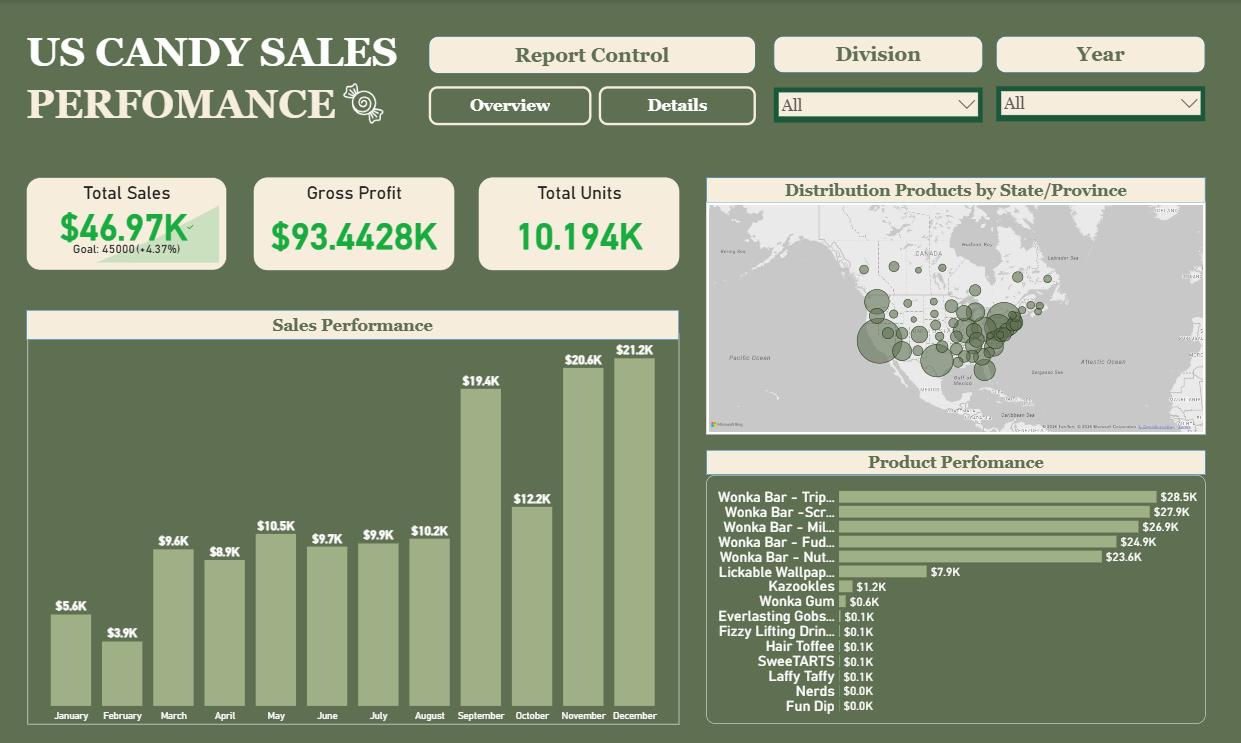

The page's visual inventory and layout, read from the dashboard file:
{"tool":"powerbi","page":{"name":"Overview","canvas":[2500,1500],"ordinal":0},"visuals":[{"type":"shape","box":[54,36,807,138],"z":0},{"type":"shape","box":[54,147,657,126],"z":1000},{"type":"shape","box":[861,72,657,75],"z":2000},{"type":"kpi","title":"Total Sales","fields":{"Indicator":["Sum(Candy_Sales.Sales)"],"Goal":["Candy_Sales.Target"],"TrendLine":["Candy_Sales.Order Date.Variation.Date Hierarchy.Year"]},"box":[53.3,356.7,403.3,186.7],"z":3000},{"type":"cardVisual","title":"Gross Profit","fields":{"Data":["Sum(Candy_Sales.Gross Profit)"]},"box":[510,356.7,403.3,186.7],"z":4000},{"type":"cardVisual","title":"Total Units","fields":{"Data":["CountNonNull(Candy_Sales.Units)"]},"box":[963.3,356.7,403.3,186.7],"z":5000},{"type":"shape","box":[1420,357.3,1003.6,50.9],"z":6000},{"type":"map","fields":{"Category":["Candy_Sales.State/Province"],"Size":["Sum(Candy_Sales.Sales)"]},"box":[1420,408,1004,466],"z":7000},{"type":"clusteredBarChart","fields":{"Category":["Candy_Sales.Product Name"],"Y":["Sum(Candy_Sales.Sales)"]},"box":[1420,954,1004,500],"z":8000},{"type":"shape","box":[1420,904,1004,50],"z":9000},{"type":"columnChart","fields":{"Category":["Candy_Sales.Order Date.Variation.Date Hierarchy.Month"],"Y":["Sum(Candy_Sales.Sales)"]},"box":[55.7,670,1310,785.7],"z":10000},{"type":"shape","box":[53.8,622.5,1312.5,60],"z":11000},{"type":"shape","box":[1556.7,73.3,420,73.3],"z":12000},{"type":"shape","box":[2003.3,73.3,420,73.3],"z":13000},{"type":"slicer","fields":{"Values":["Candy_Sales.Order Date.Variation.Date Hierarchy.Year"]},"box":[2003.3,173.3,420,70],"z":14000},{"type":"actionButton","title":"Button Overview","box":[862.5,173.8,327.5,78.8],"z":15000},{"type":"actionButton","title":"Button Details","box":[1203.8,173.8,316.2,78.8],"z":16000},{"type":"image","box":[652.9,155.7,154.3,104.3],"z":17000},{"type":"slicer","fields":{"Values":["Candy_Sales (2).Division"]},"box":[1556.7,176.7,420,70],"z":18000}]}

Visuals, with their boxes in screenshot pixels (x1, y1, x2, y2), scaled from the page's 2500x1500 canvas onto the 1241x743 screenshot:
shape: select_region(27, 18, 427, 86)
shape: select_region(27, 73, 353, 135)
shape: select_region(427, 36, 754, 73)
"Total Sales" kpi: select_region(26, 177, 227, 269)
"Gross Profit" cardVisual: select_region(253, 177, 453, 269)
"Total Units" cardVisual: select_region(478, 177, 678, 269)
shape: select_region(705, 177, 1203, 202)
map - Candy_Sales.State/Province x Sum(Candy_Sales.Sales): select_region(705, 202, 1203, 433)
clusteredBarChart - Candy_Sales.Product Name x Sum(Candy_Sales.Sales): select_region(705, 473, 1203, 720)
shape: select_region(705, 448, 1203, 473)
columnChart - Candy_Sales.Order Date.Variation.Date Hierarchy.Month x Sum(Candy_Sales.Sales): select_region(28, 332, 678, 721)
shape: select_region(27, 308, 678, 338)
shape: select_region(773, 36, 981, 73)
shape: select_region(994, 36, 1203, 73)
slicer - Candy_Sales.Order Date.Variation.Date Hierarchy.Year: select_region(994, 86, 1203, 121)
"Button Overview" actionButton: select_region(428, 86, 591, 125)
"Button Details" actionButton: select_region(598, 86, 755, 125)
image: select_region(324, 77, 401, 129)
slicer - Candy_Sales (2).Division: select_region(773, 88, 981, 122)
